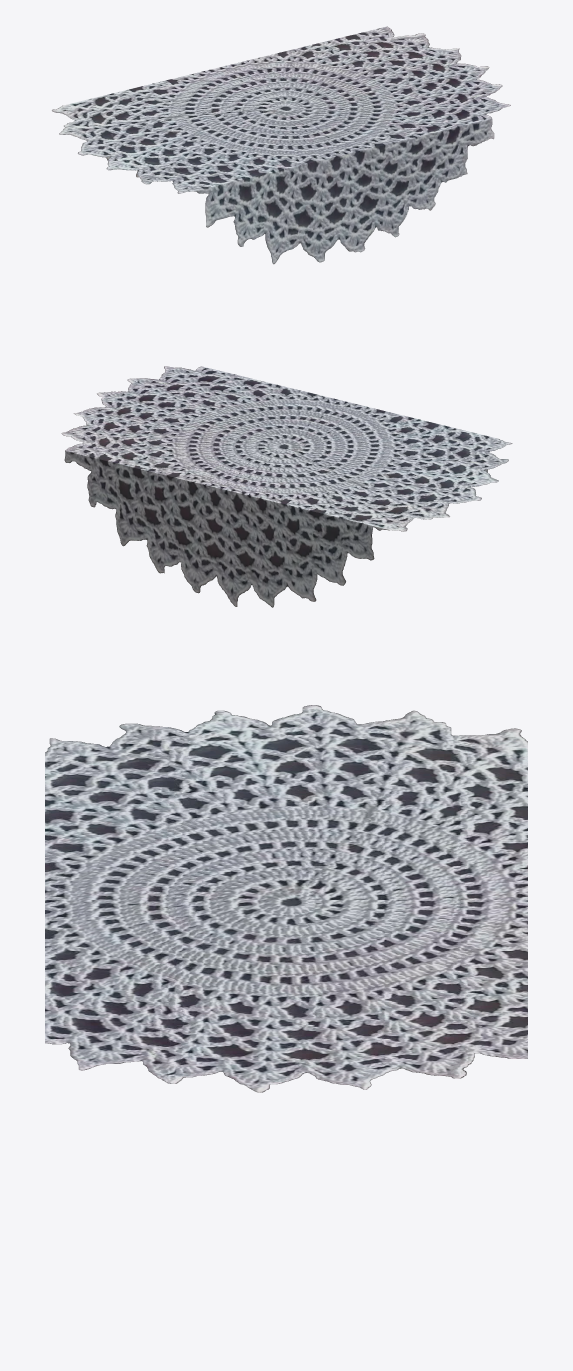
The model's file is NapkinFolded.fbx.
The picture shows the model from 3 angles, top to bottom: view 1: azimuth 30°, elevation 25°; view 2: azimuth 150°, elevation 25°; view 3: azimuth 270°, elevation 25°; orthographic projection. The views are drawn at different scales.
Visible parts, largest first — view 1: Plane.019; view 2: Plane.019; view 3: Plane.019.
Boxes of the visible parts, x1,y1,x2,y2 form: Plane.019: (52, 26, 510, 264); Plane.019: (61, 366, 512, 607); Plane.019: (45, 705, 527, 1092).
Bounding box in the file's own units: 119 × 33.22 × 58.65.
Materials: 1 (1 with a texture image).
